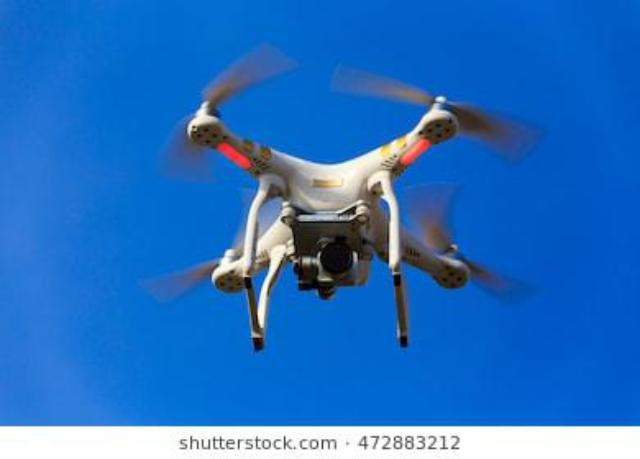drone: (0, 37, 640, 361)
